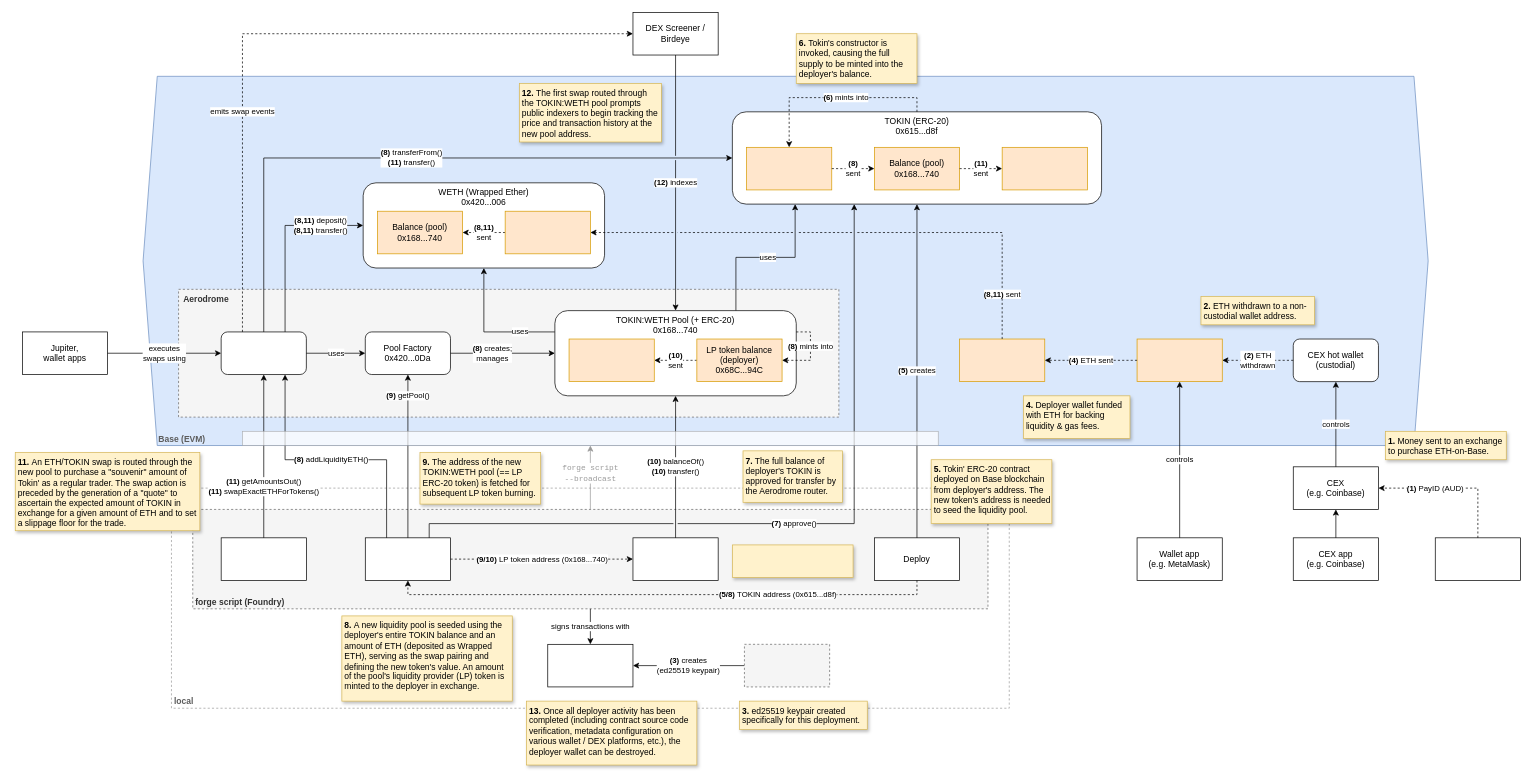
This 1533x782 diagram has some shape labels left out. Each missing label, with the centre of its shape:
"10. Full balance of deployer's LP tokens are burned." belongs at point (793, 562).
"Balance (deployer) 0x68C...94C" belongs at point (789, 168).
"Balance (personal)" belongs at point (1044, 168).
"Balance (router) 0xcF7...E43" belongs at point (547, 232).
"Banking app" belongs at point (1477, 558).
"BurnLP" belongs at point (675, 558).
"cast wallet (Foundry)" belongs at point (787, 665).
"ETH balance (deployer) 0x68C...94C" belongs at point (1002, 360).
"ETH balance (personal)" belongs at point (1179, 360).
"JSON-RPC API (https://mainnet .base.org)" belongs at point (590, 438).
"LP token balance (burned) 0x000...dEaD" belongs at point (611, 360).
"Router 0xcF7...E43" belongs at point (263, 353).
"SeedPool" belongs at point (407, 558).
"Souvenir" belongs at point (263, 558).
"Wallet (deployer) 0x68C...94C" belongs at point (590, 665).
